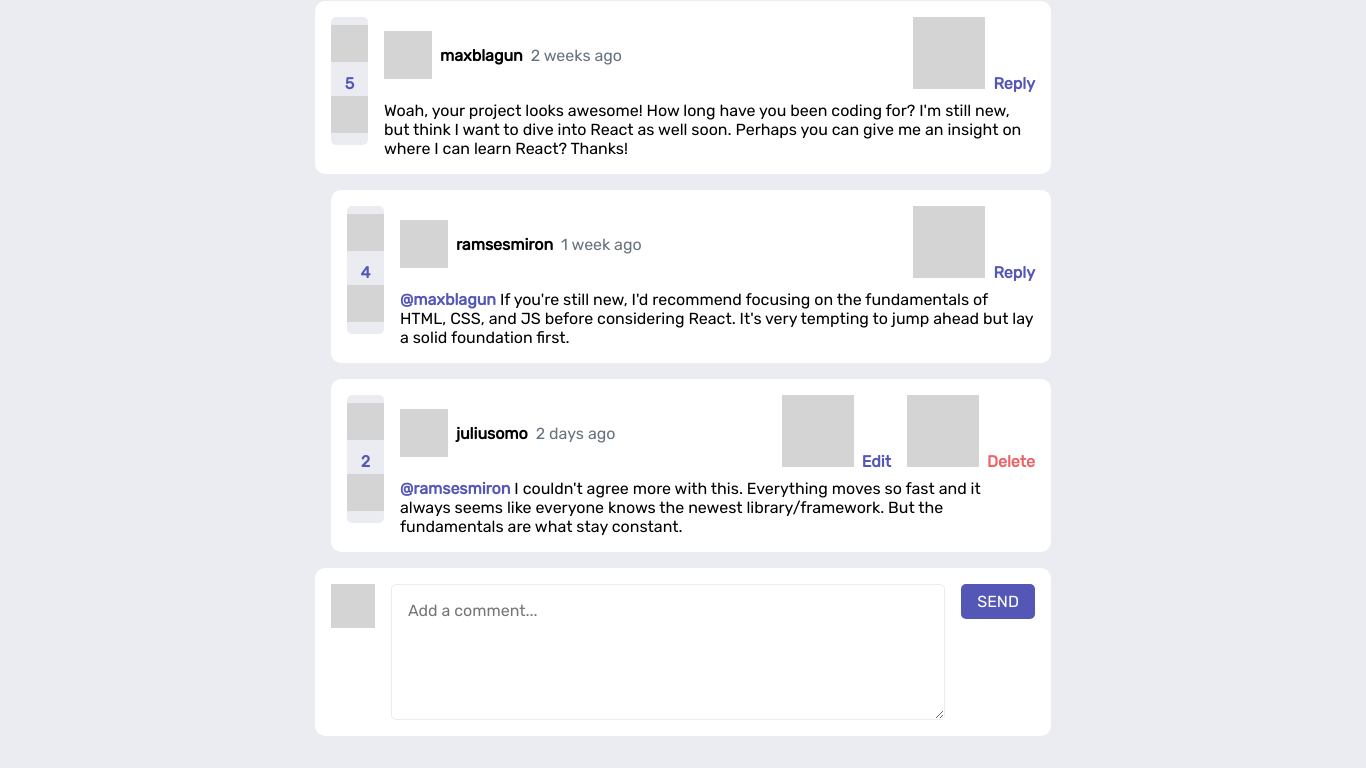
Test: App Integration Tests › Deleting › should remove comment after confirming deletion
(page scrolled)
Click the button "Delete". click: (971, 433)
box: [907, 395, 1035, 471]
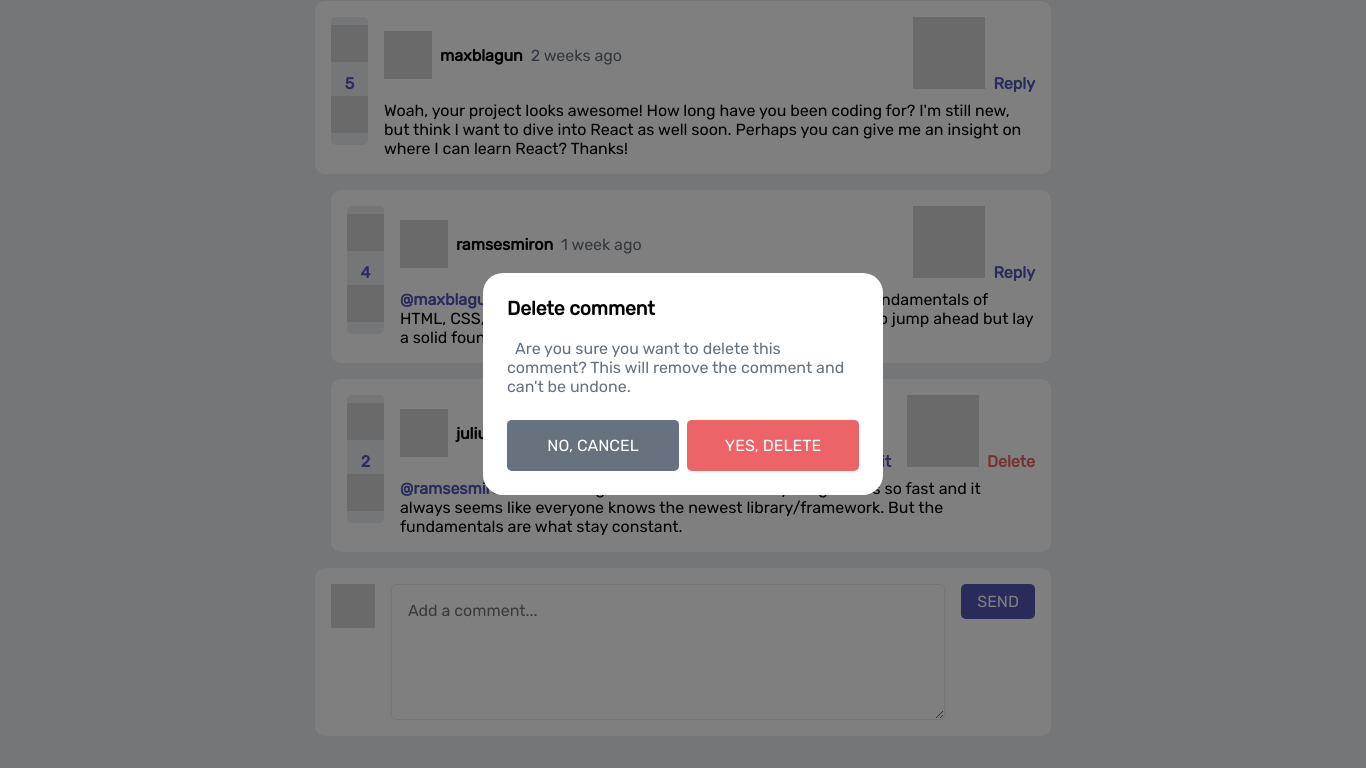
Click the button "Yes, Delete". click: (773, 446)
box: [687, 420, 859, 471]
(page scrolled)
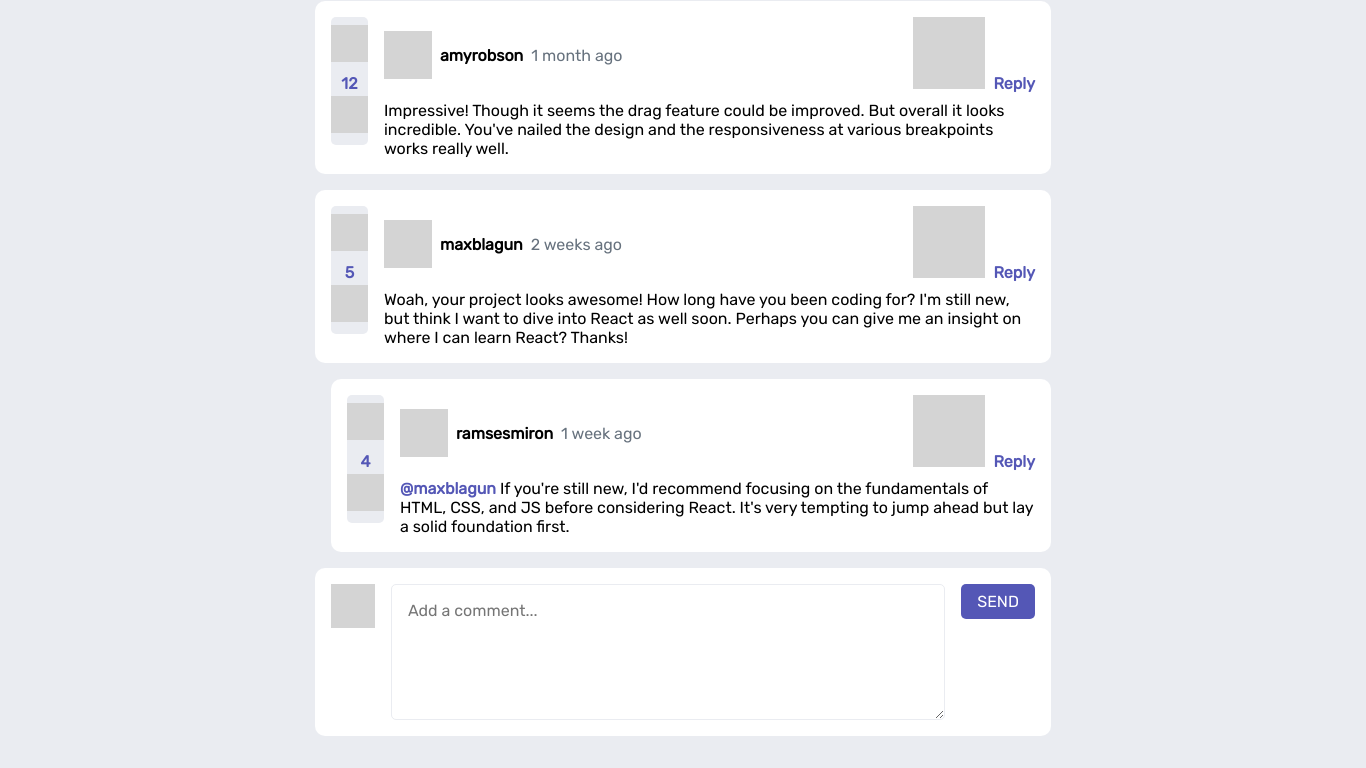
Now the text "juliusomo" is gone
